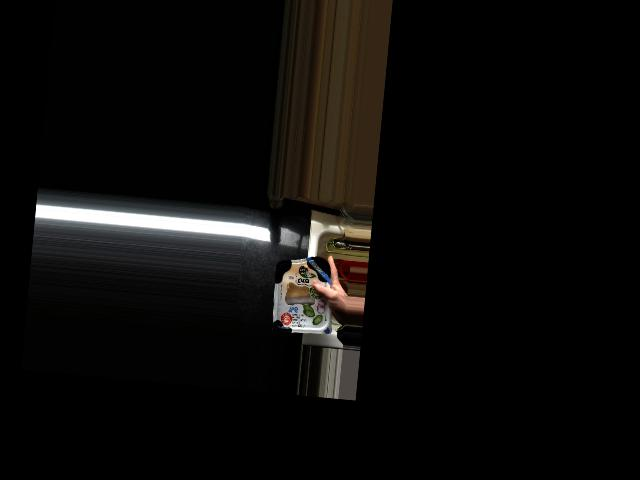cheese: (271, 253, 337, 333)
